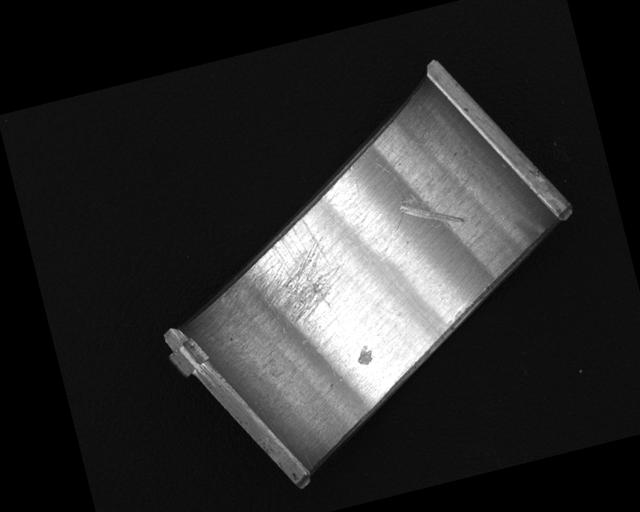bruise: (354, 343, 375, 368)
nick: (397, 184, 466, 237), (372, 156, 413, 237)
scratch: (210, 209, 356, 340)
